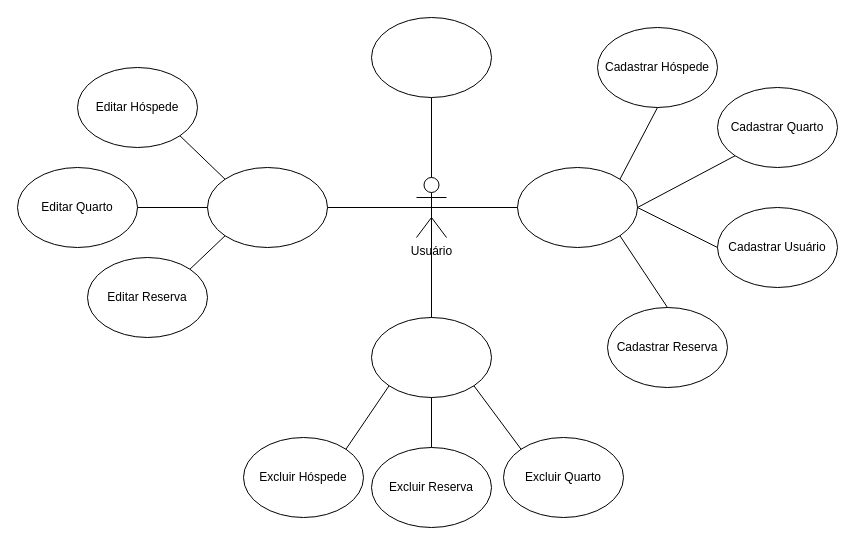
The diagram is 855 pixels wide and 545 high, and some of its shapes have lost their labels. The shapes that lost their labels are listed below. From the top down, each one's box as (x1, y1, x2, y2) in pixels, then its label:
(370, 16, 492, 98): Efetuar Login
(206, 166, 328, 248): Realizar Edição
(516, 166, 638, 248): Realizar Cadastro
(370, 316, 492, 398): Realizar Exclusão
